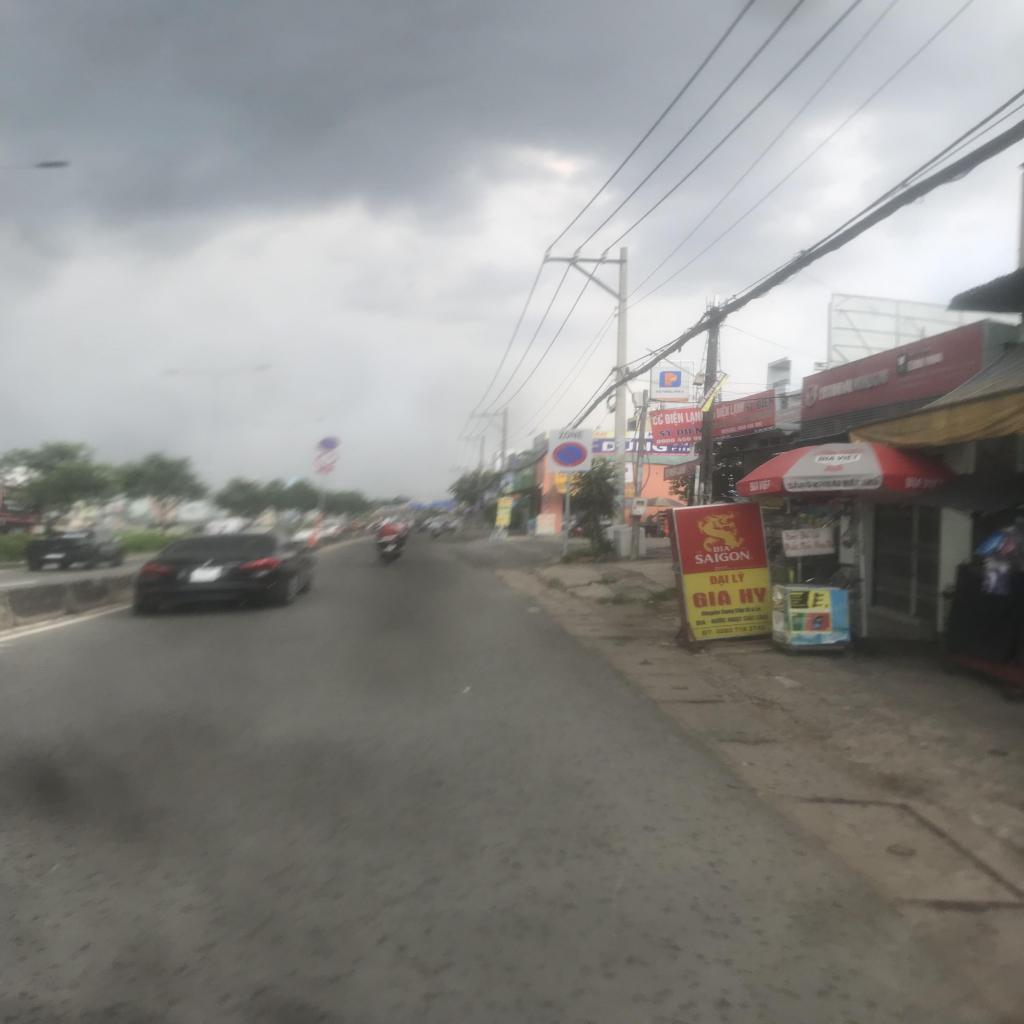cam_do_xe: (551, 441, 588, 468)
